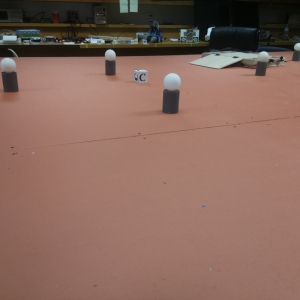blockC: (134, 67, 146, 83)
obstacle: (162, 74, 181, 111), (1, 59, 18, 95), (104, 51, 116, 77), (256, 52, 267, 75), (291, 43, 300, 61)
side: (265, 55, 286, 69)
slope: (194, 54, 242, 70)
